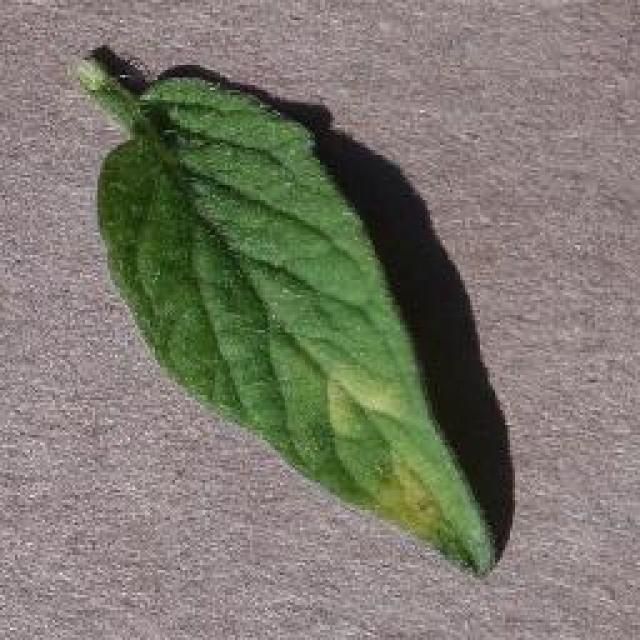leaf mold: (74, 56, 500, 578)
